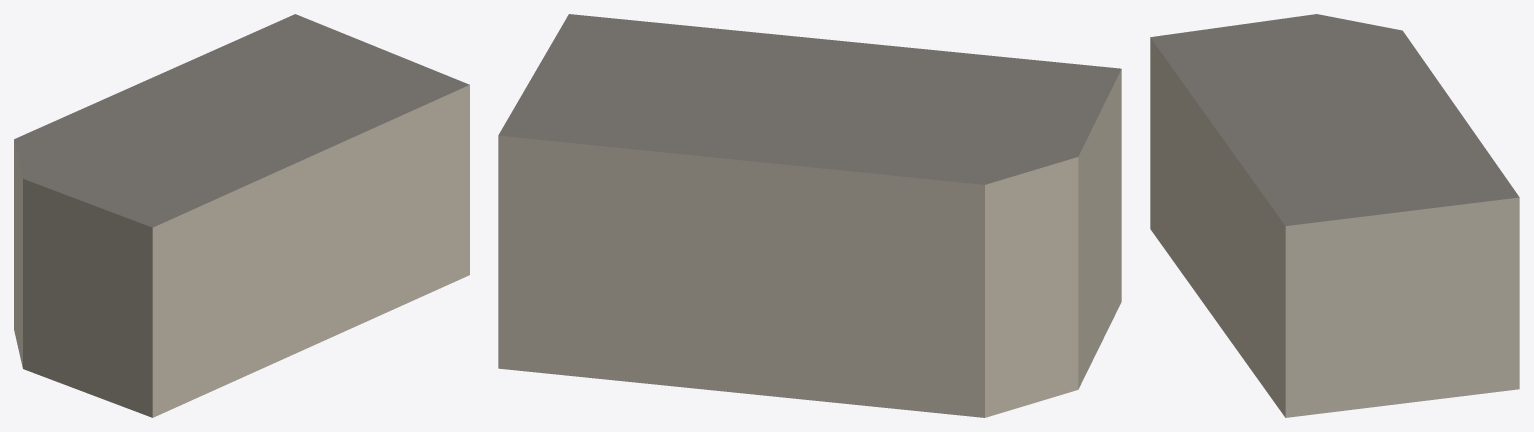
3 renders of one model, left to right at view 1: azimuth 30°, elevation 25°; view 2: azimuth 150°, elevation 25°; view 3: azimuth 270°, elevation 25°, orthographic. The views are drawn at different scales.
Parts seen in each view (by area): view 1: HP-w505641150; view 2: HP-w505641150; view 3: HP-w505641150.
Part boxes in pixels (bbox=[...]): HP-w505641150: bbox=[14, 14, 469, 417]; HP-w505641150: bbox=[498, 14, 1121, 417]; HP-w505641150: bbox=[1150, 14, 1519, 417].
Size of the model in its own units: 42.72 by 18 by 31.43.
